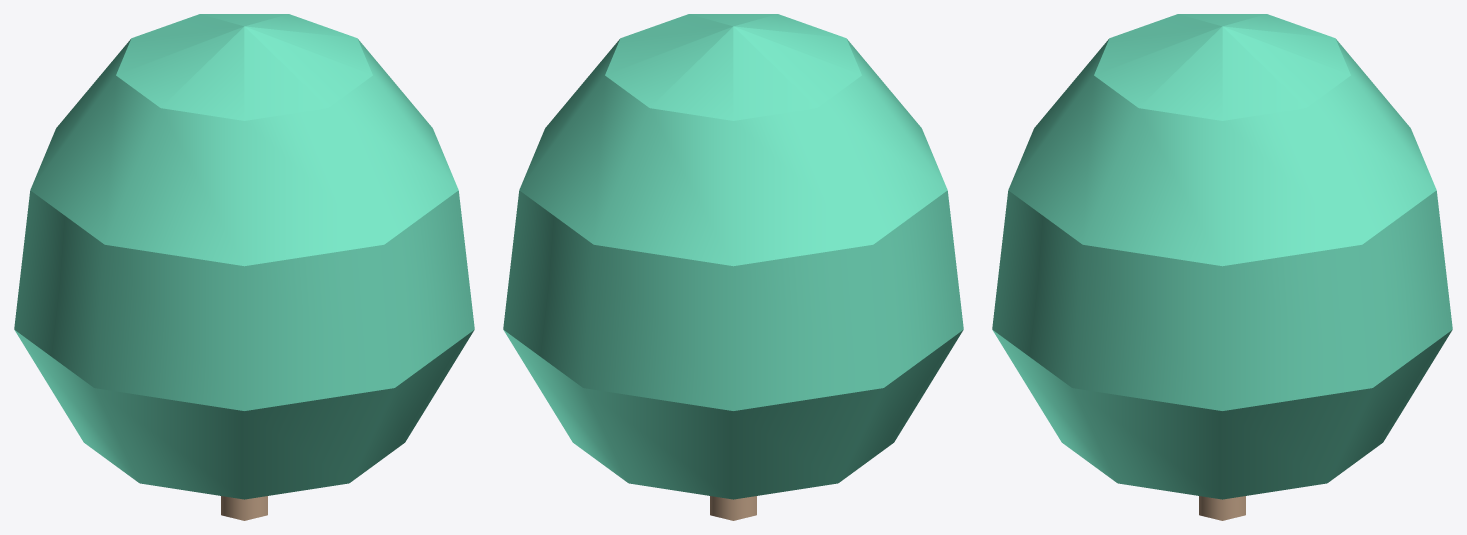
The model's file is shrub.glb.
3 views of the same model, side by side, from view 1: azimuth 30°, elevation 25°; view 2: azimuth 150°, elevation 25°; view 3: azimuth 270°, elevation 25° (orthographic).
Parts seen in each view (by area): view 1: shrub; view 2: shrub; view 3: shrub.
Boxes of the visible parts, x1,y1,x2,y2 form: shrub: (14,14,474,520); shrub: (503,14,963,520); shrub: (992,14,1452,520).
Bounding box in the file's own units: 0.417 × 0.49 × 0.4235.
